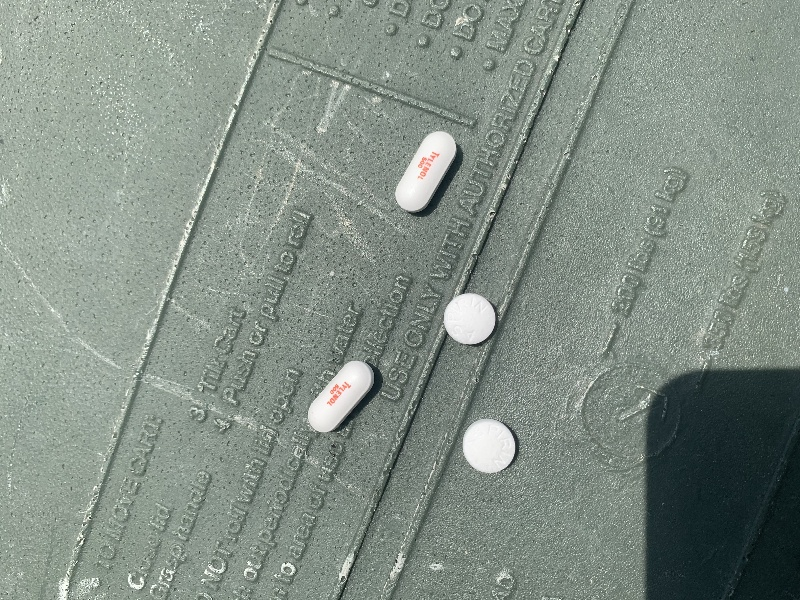Aspirin: (461, 417, 521, 477), (441, 290, 499, 349)
Tylenol: (393, 127, 461, 215), (305, 357, 380, 435)
